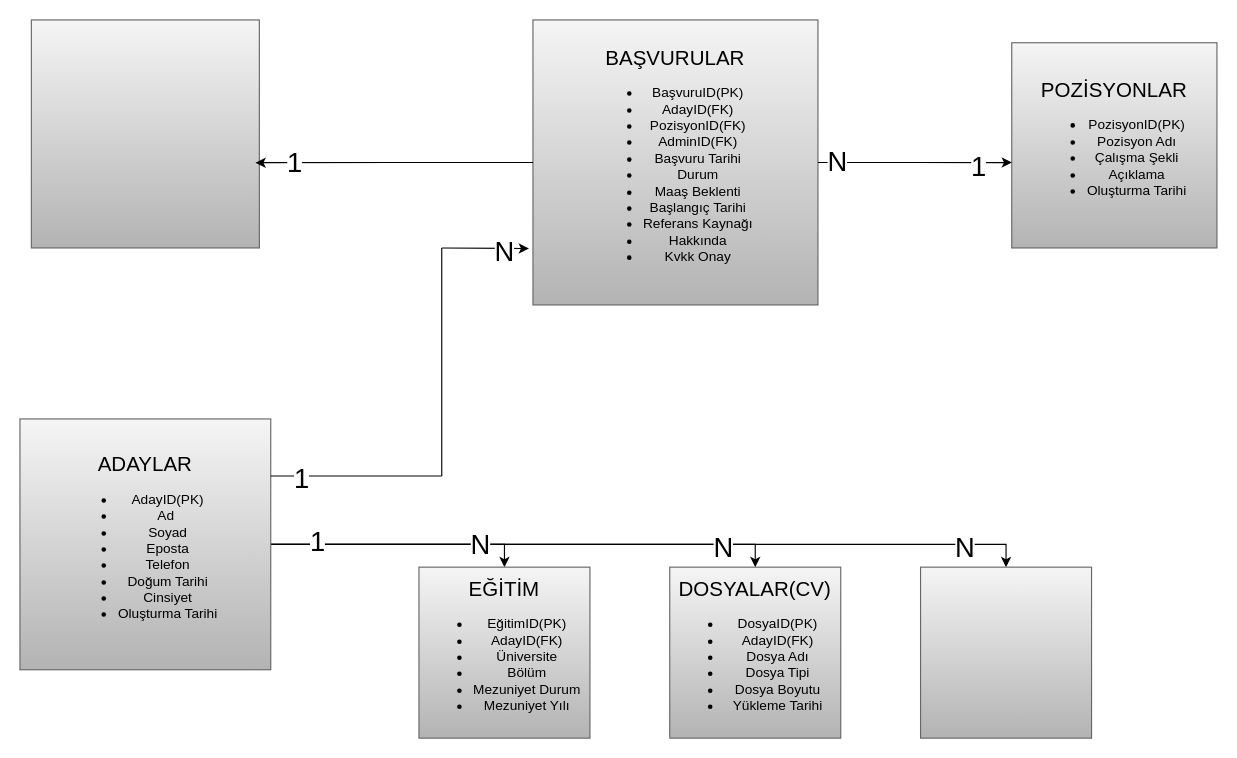
This 1237x758 diagram has some shape labels left out. Each missing label, with the box of its shape:
ADAY_YETENEK ID(PK) AdayID(FK) YetenekID(FK): (919, 566, 1092, 738)
ADMİN AdminID(PK) Kullanıcı Adı Şifre Ad Soyad Eposta Telefon Oluşturma Tarihi: (30, 19, 259, 248)
